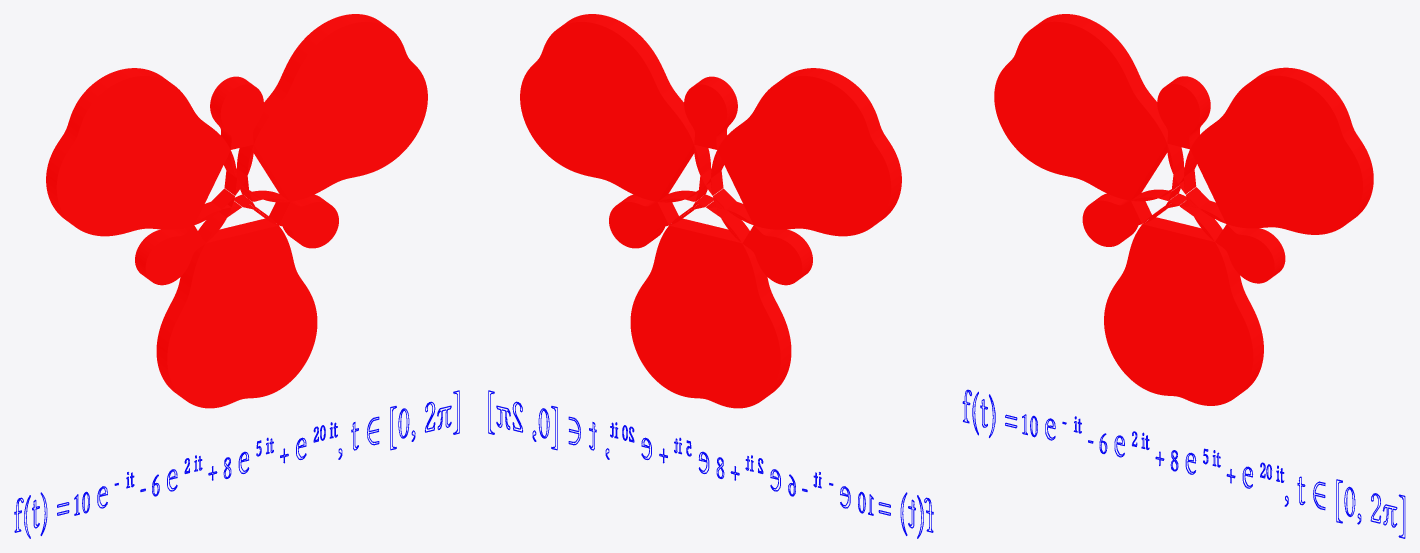
Rendered from SimpleBeauty30.glb.
3 views of the same model, side by side, from view 1: azimuth 30°, elevation 25°; view 2: azimuth 150°, elevation 25°; view 3: azimuth 330°, elevation 25° (orthographic).
Size of the model in its own units: 1.2 by 1.14 by 0.05.
